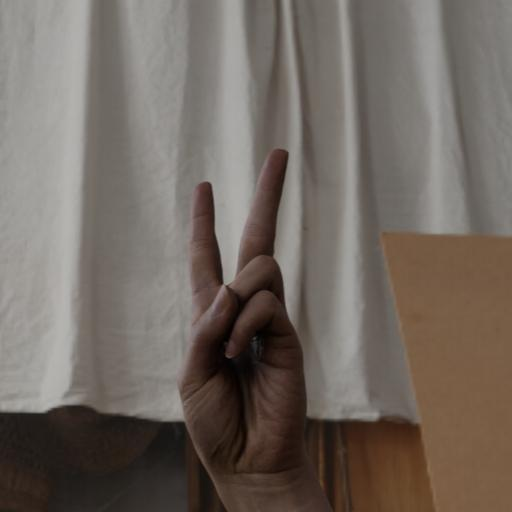V: (156, 138, 322, 478)
